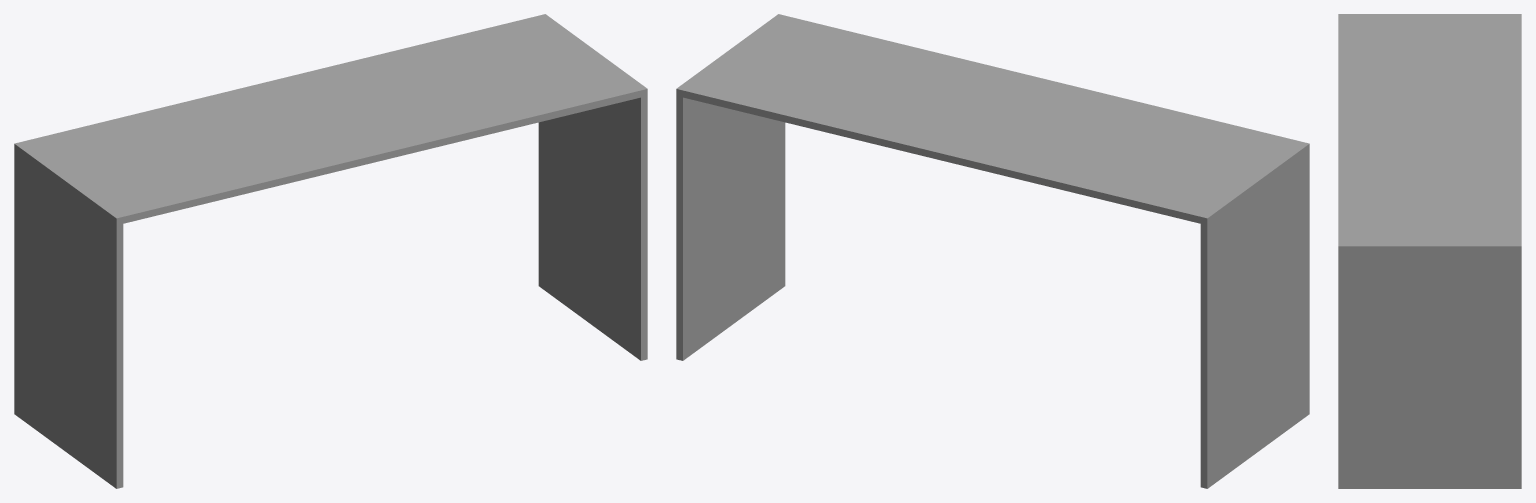
The model's file is meuble_68fde1bbe46ff.glb.
3 views of the same model, side by side, from view 1: azimuth 30°, elevation 25°; view 2: azimuth 150°, elevation 25°; view 3: azimuth 270°, elevation 25° (orthographic). The views are drawn at different scales.
Visible parts, largest first — view 1: world; view 2: world; view 3: world.
Boxes of the visible parts, x1,y1,x2,y2 form: world: [14, 14, 647, 488]; world: [676, 14, 1309, 488]; world: [1338, 14, 1521, 488].
Size of the model in its own units: 1.5 by 0.73 by 0.5.
1 material, 1 textured.
